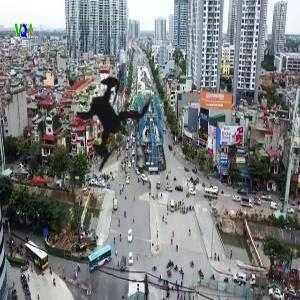drone: (35, 41, 192, 198)
